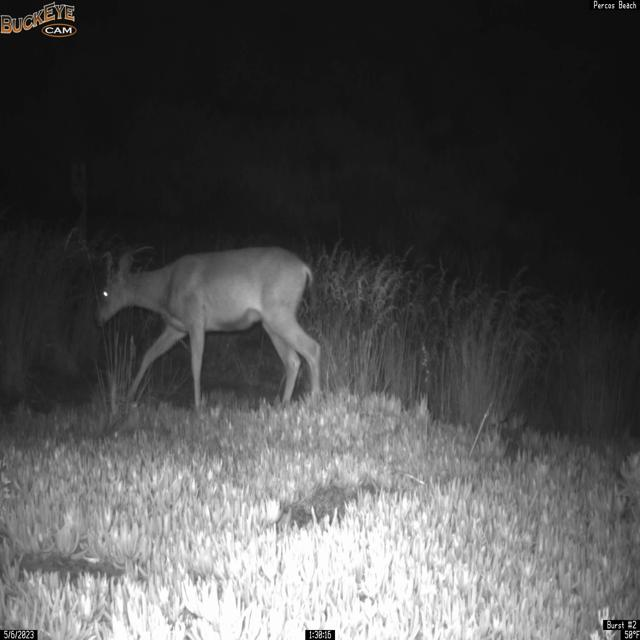deer: (93, 245, 323, 411)
